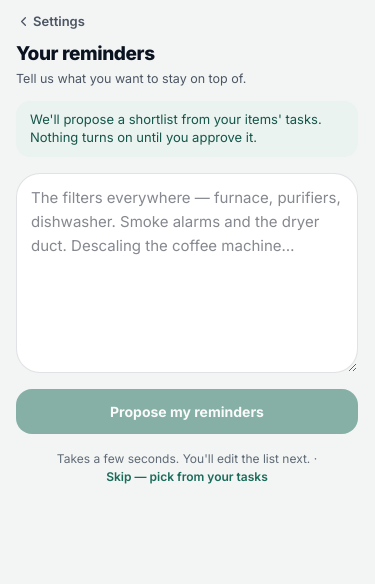
YourReminders › the callable failing is VISIBLE, and nothing is written
Replace the text in the text box named "What do you want to stay on top of?" with "filters" at [187, 272], box [16,172,358,372]
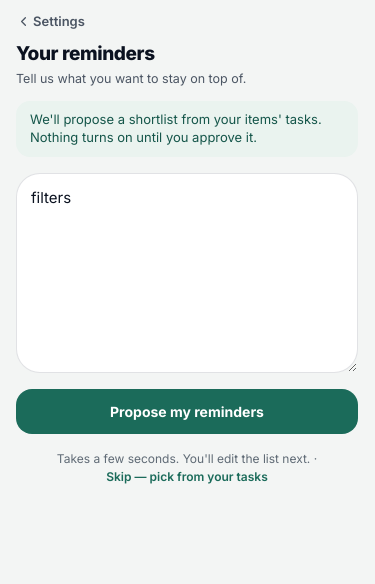
Click the button "Propose my reminders".
click(187, 411)  # box [16,388,358,434]
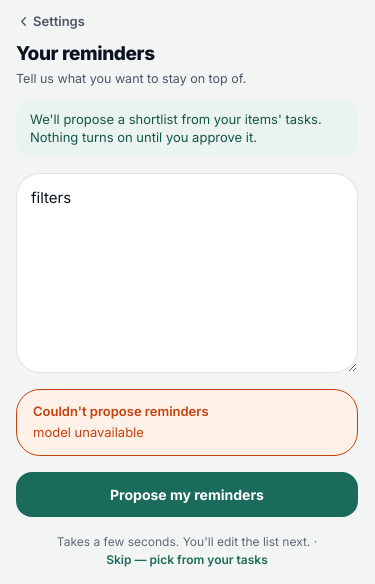
Now the message shows "Couldn't propose reminders", box [33,402,209,418]
Now the message shows "model unavailable", box [33,424,144,440]
